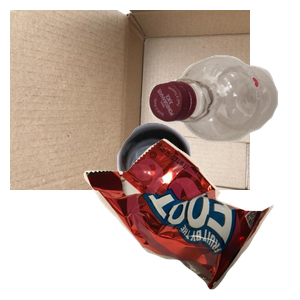cardboard: (10, 10, 250, 190)
glass: (115, 120, 300, 300)
plastic: (146, 53, 300, 187)
trash: (81, 136, 300, 300)
